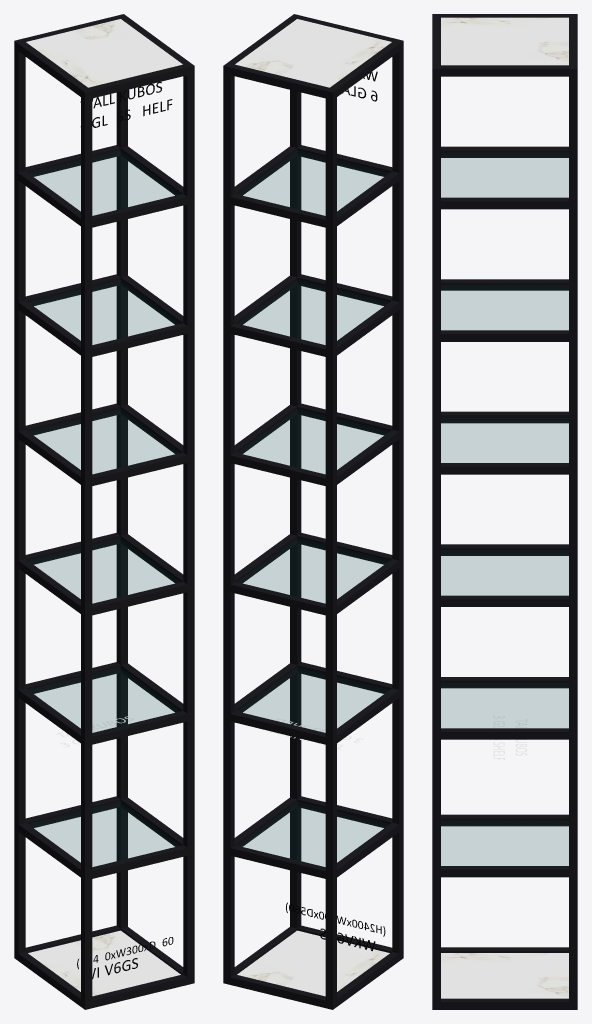
The model's file is Magppie Kubos 6 W-300mm , D-560mm, H-2400mm.glb.
3 views of the same model, side by side, from view 1: azimuth 30°, elevation 25°; view 2: azimuth 150°, elevation 25°; view 3: azimuth 270°, elevation 25° (orthographic). The views are drawn at different scales.
Size of the model in its own units: 0.3 by 2.4 by 0.336.
5 materials, 1 textured.
